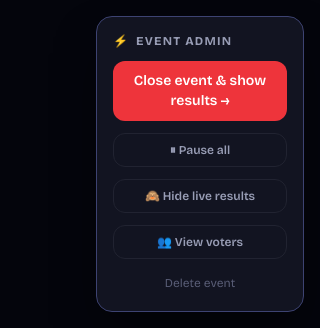
Test: EventAdminControls voter roster › fetches and renders the voter roster when "View voters" is clicked
Click the button "👥 View voters".
click(200, 242)  # box top-left (113, 225), bottom-right (287, 259)
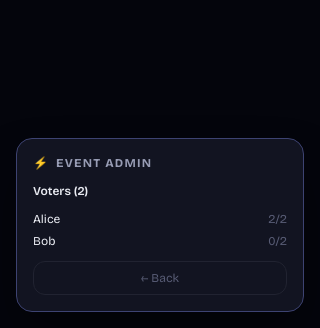
Now the text "Alice" is shown, box top-left (33, 211), bottom-right (60, 227)
Now the text "2/2" is shown, box top-left (268, 211), bottom-right (287, 227)
Now the text "Bob" is shown, box top-left (33, 233), bottom-right (56, 249)
